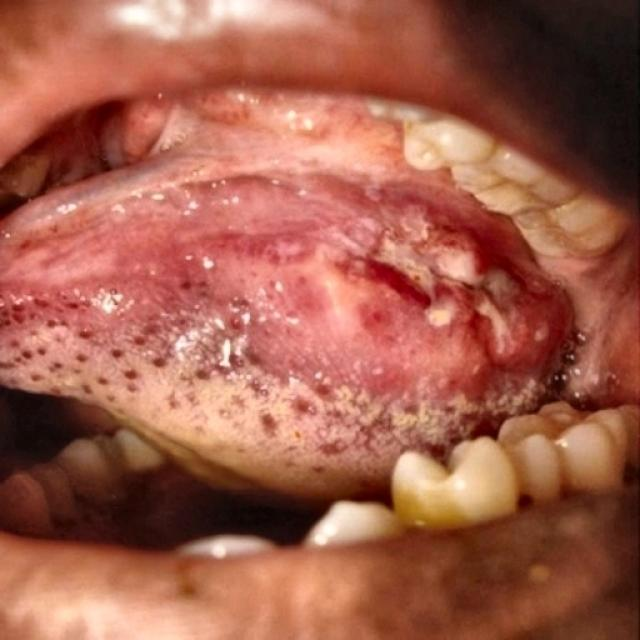cancer-detection: (245, 197, 567, 370)
processing_area: (0, 91, 638, 495)
